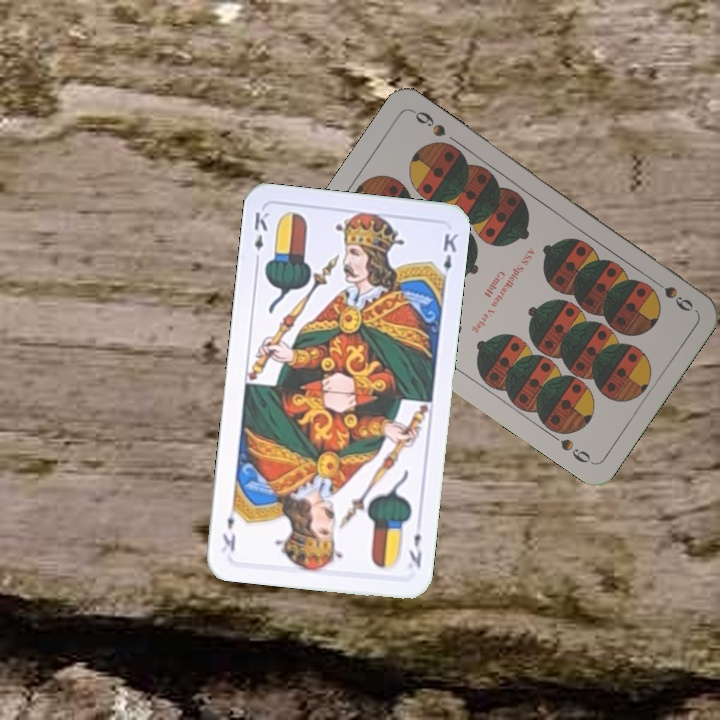EK: (250, 207, 271, 266), (405, 529, 425, 570)
S9: (645, 273, 696, 315)
